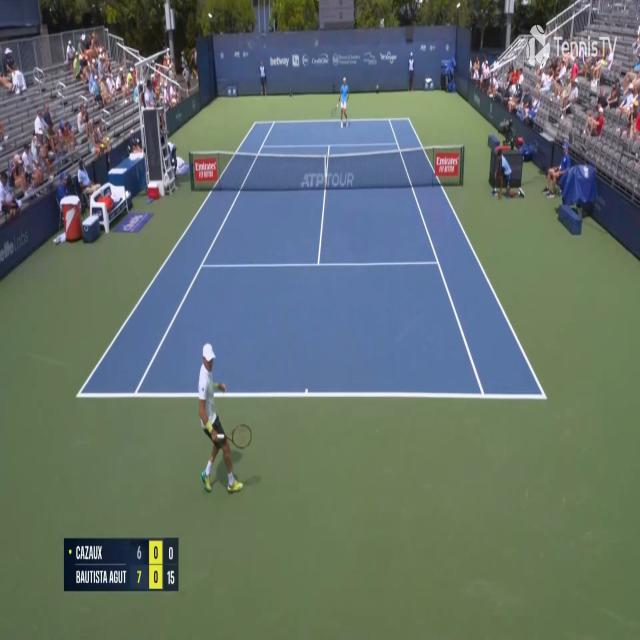tennis-player: (197, 340, 254, 498), (335, 76, 350, 130)
